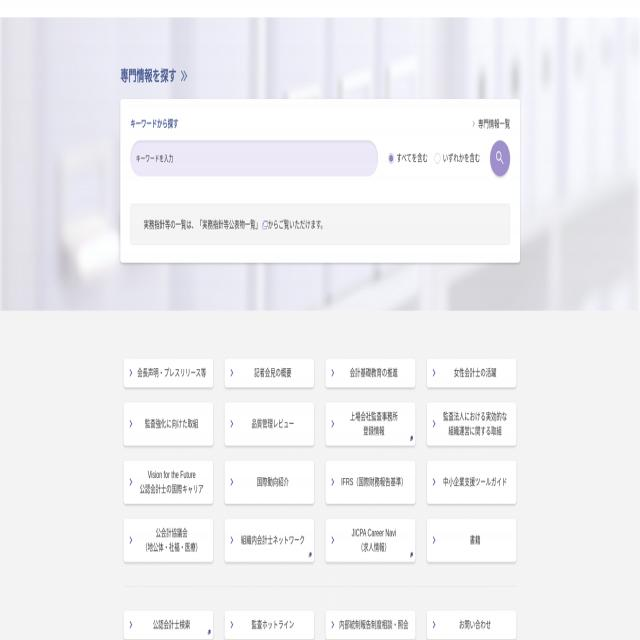button: (124, 402, 214, 446), (224, 402, 314, 446), (427, 402, 517, 446), (124, 518, 214, 562), (427, 518, 517, 562), (124, 461, 214, 504), (224, 461, 314, 504), (326, 461, 416, 504), (427, 461, 517, 504), (124, 358, 214, 387), (224, 358, 314, 387), (326, 358, 416, 387), (427, 358, 517, 387), (224, 617, 314, 632), (326, 617, 416, 632), (427, 617, 517, 632), (490, 140, 510, 176), (262, 221, 268, 229)
field: (130, 140, 378, 176), (435, 156, 440, 164), (389, 156, 393, 164)
